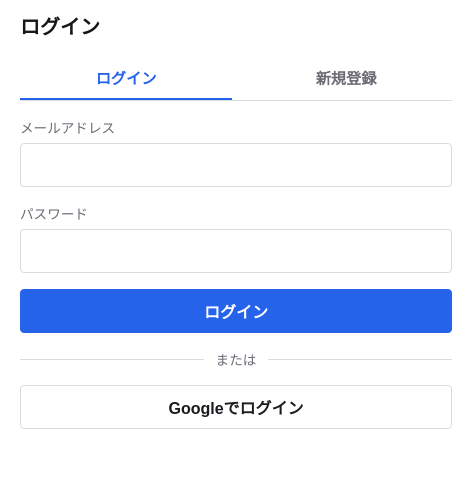
Test case: LoginForm › 新規登録 › 登録失敗時は role=alert で日本語エラーメッセージを表示する
The image size is (473, 500).
Click the tab "新規登録".
click(346, 78)  # box [240, 56, 452, 100]
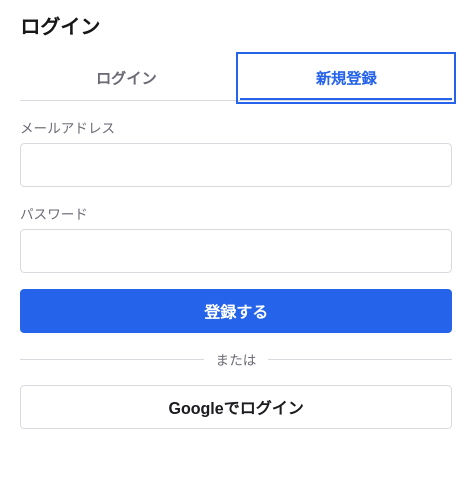
Type "taro@example.com" into the field labelled "メールアドレス".
click(236, 165); type("taro@example.com")  # box [20, 143, 452, 187]
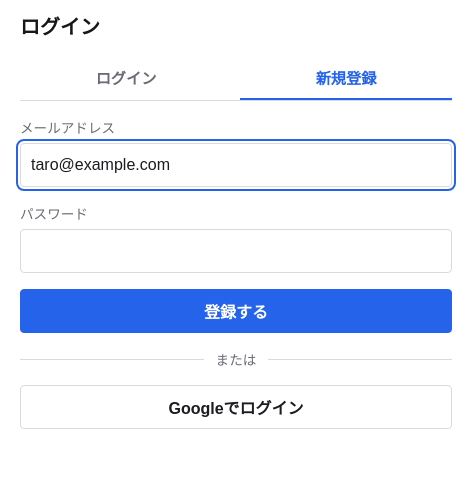
Type "password123" into the password field labelled "パスワード".
click(236, 251); type("password123")  # box [20, 229, 452, 273]
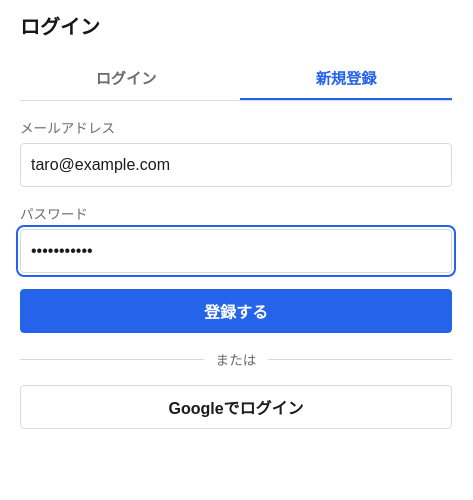
Click the button "登録する".
click(236, 311)  # box [20, 289, 452, 333]
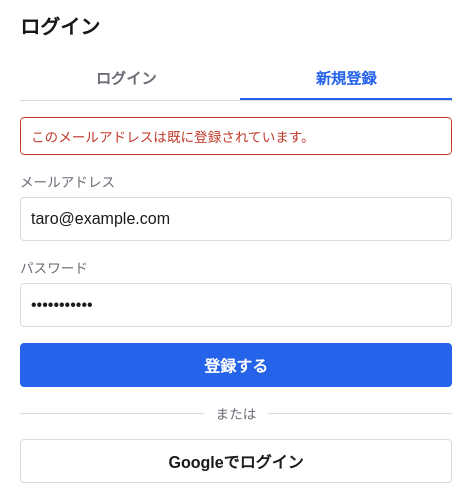
Expected: the message reads "このメールアドレスは既に登録されています。", [31, 127, 315, 146]
